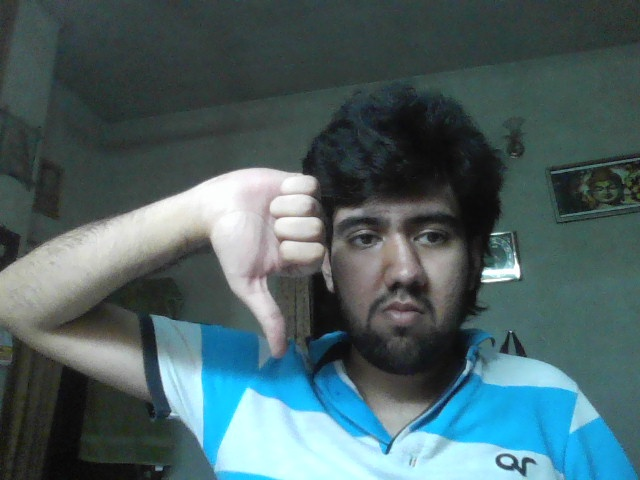NotOk: (215, 168, 325, 358)
